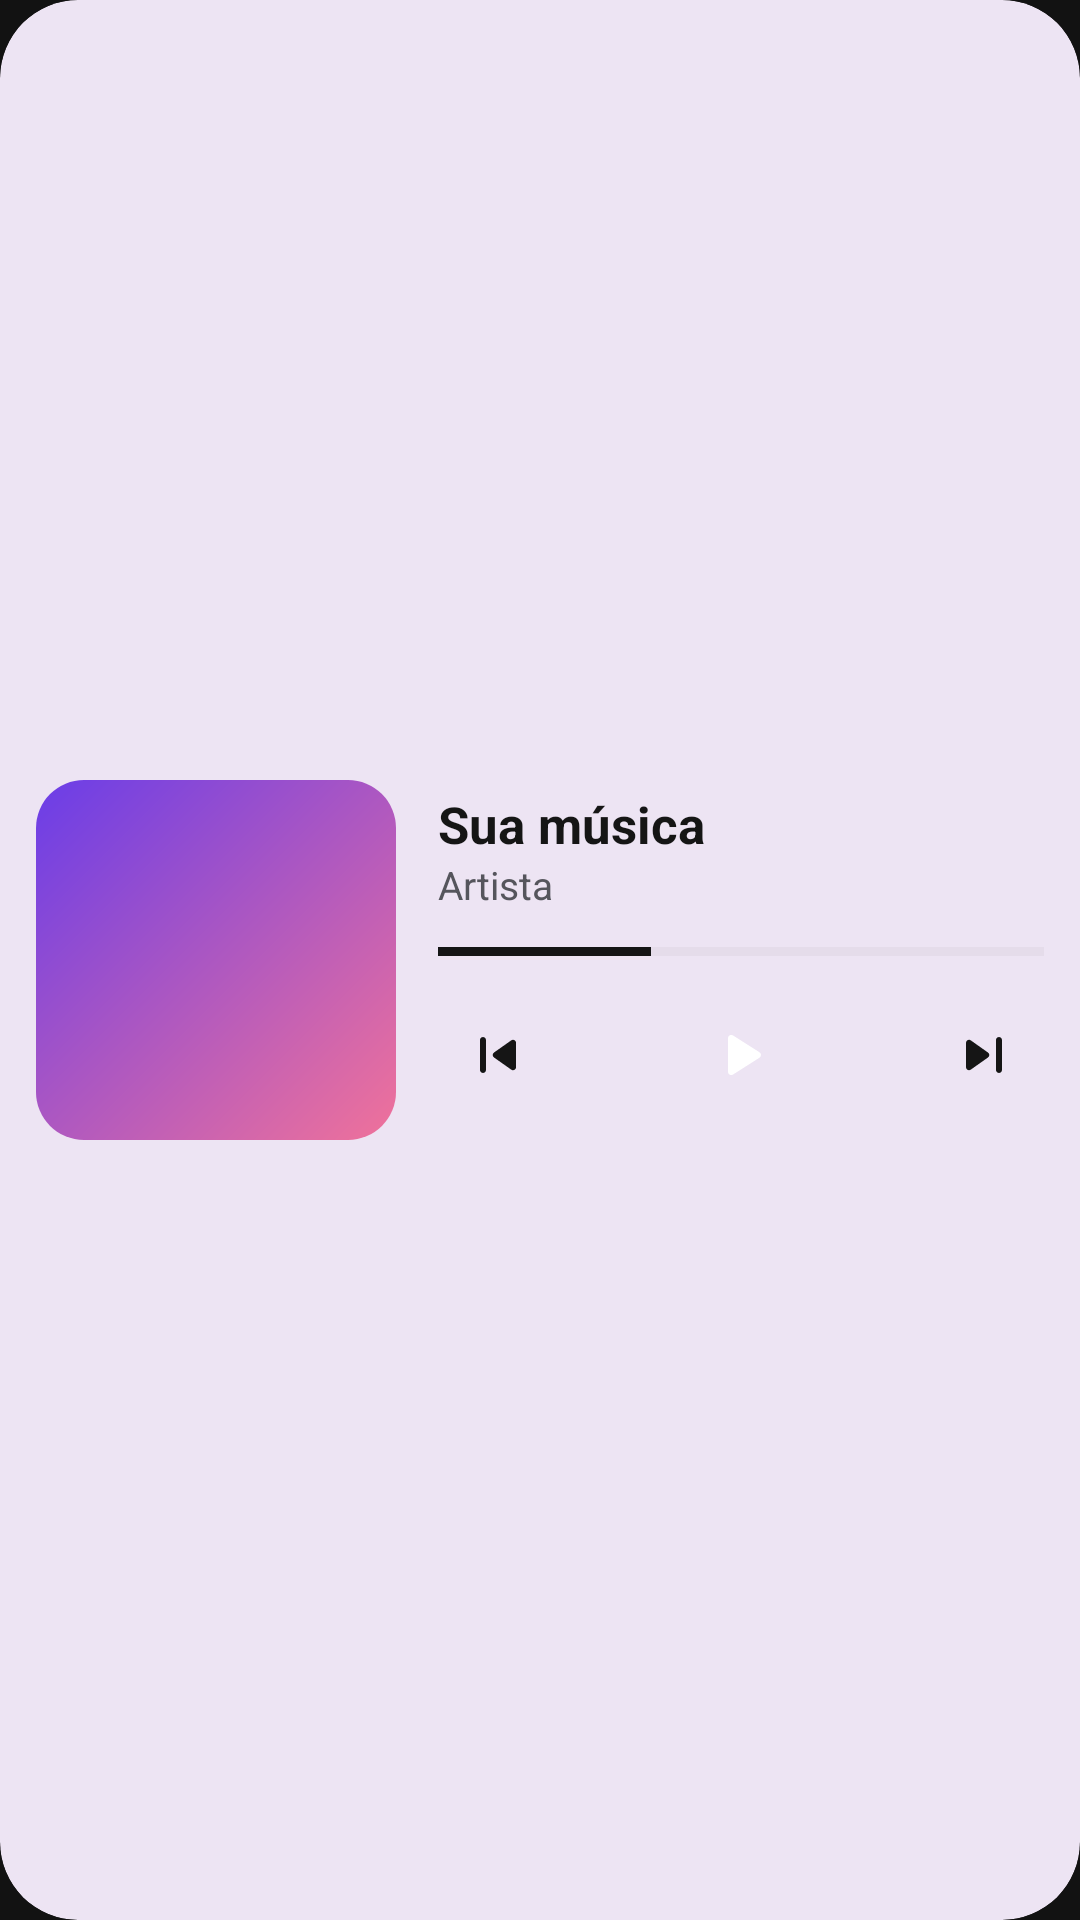

Screen size 1080 × 1920. Icon name, then its box in pixels as (x1, y1, x2, y2):
widget next: (966, 1037, 1002, 1073)
widget play: (728, 1035, 760, 1075)
widget previous: (480, 1037, 516, 1073)
